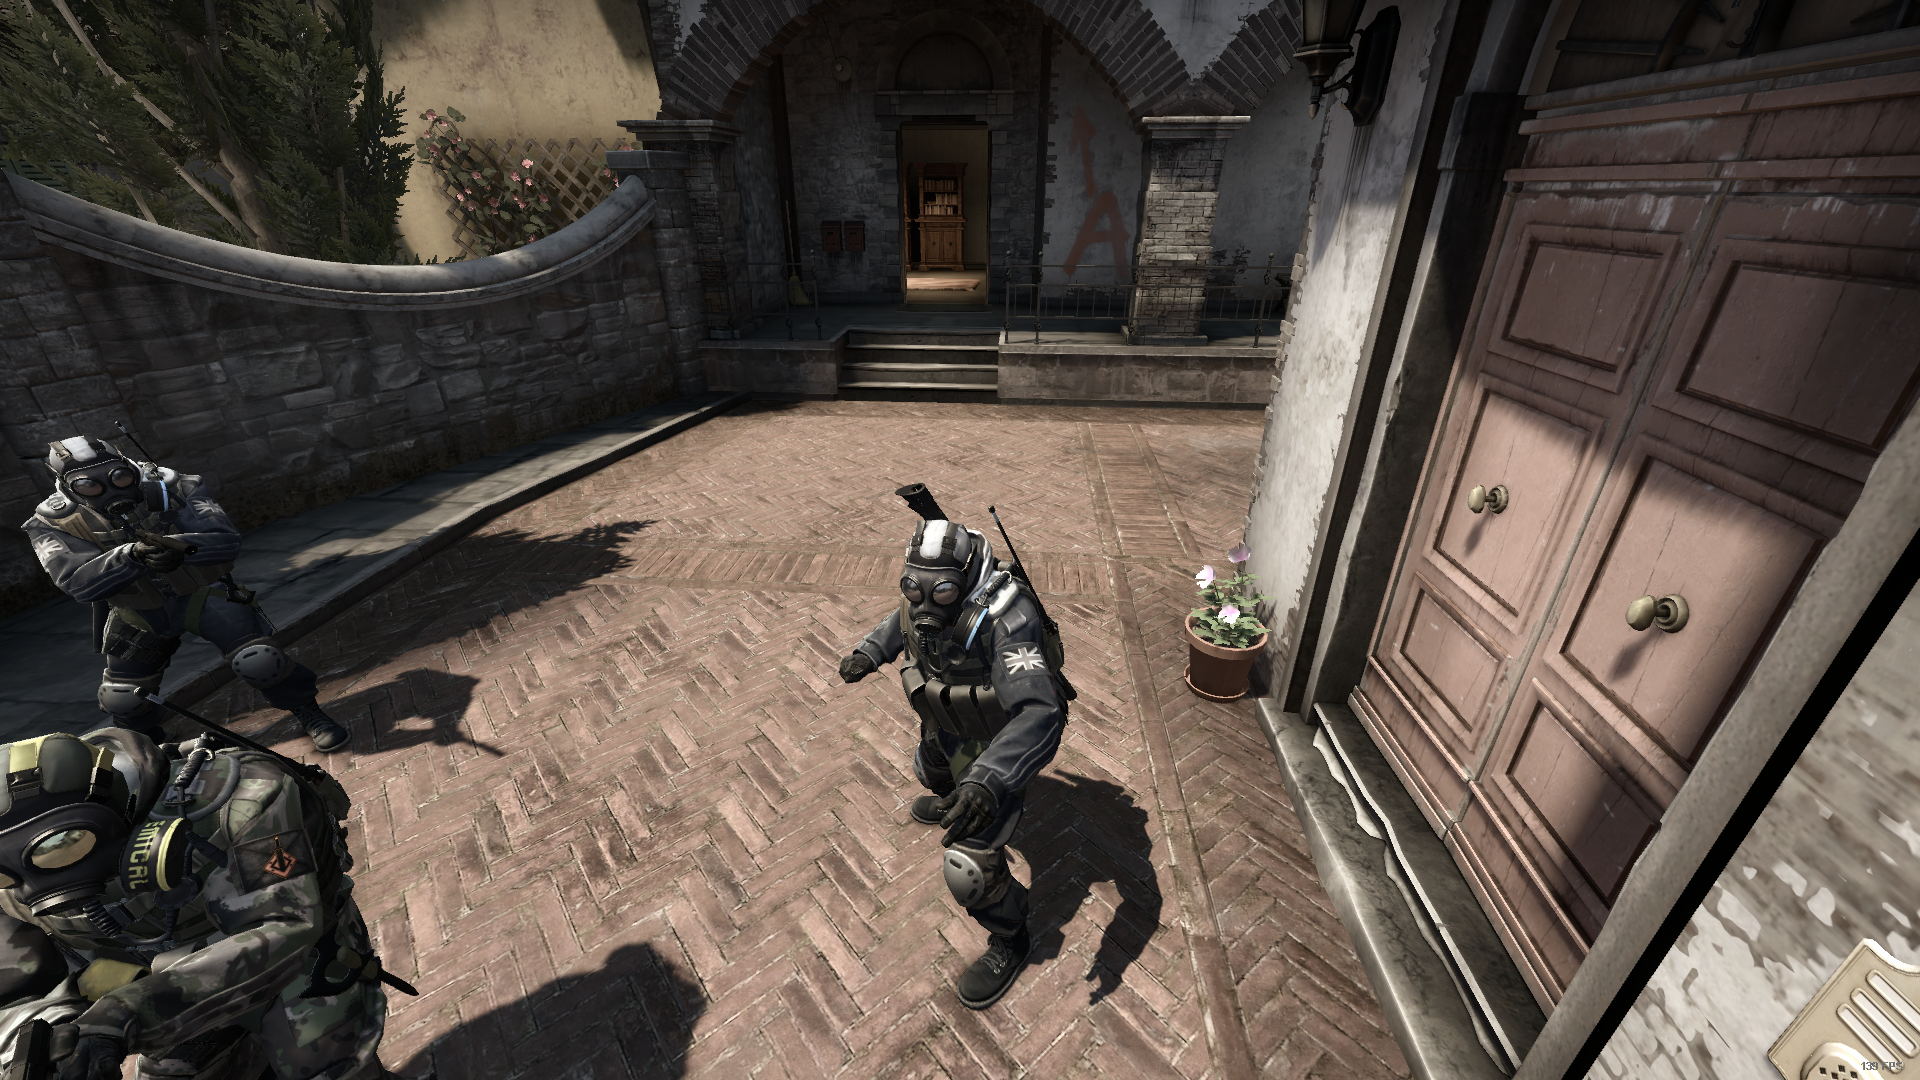ct: (804, 487, 1117, 1029), (15, 419, 364, 771)
